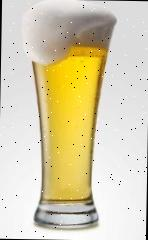glass: (18, 11, 122, 230)
